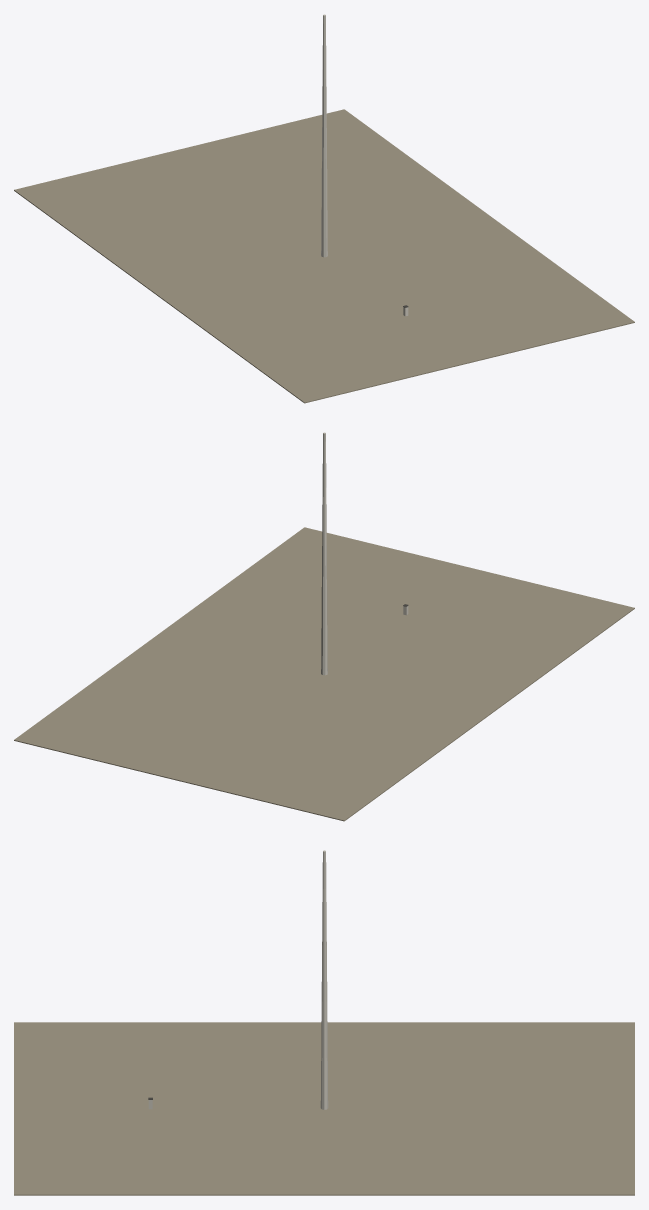
File: fort_dearborn_parade__parade_1816.glb
3 views of the same model, one above another, from view 1: azimuth 30°, elevation 25°; view 2: azimuth 150°, elevation 25°; view 3: azimuth 270°, elevation 25° (orthographic). The views are drawn at different scales.
Visible parts, largest first — view 1: fort_dearborn_parade__parade_1816; view 2: fort_dearborn_parade__parade_1816; view 3: fort_dearborn_parade__parade_1816.
Boxes of the visible parts, x1,y1,x2,y2 form: fort_dearborn_parade__parade_1816: [14, 14, 634, 403]; fort_dearborn_parade__parade_1816: [14, 432, 634, 821]; fort_dearborn_parade__parade_1816: [14, 850, 634, 1195].
Bounding box in the file's own units: 21.8 × 15.24 × 33.2.
